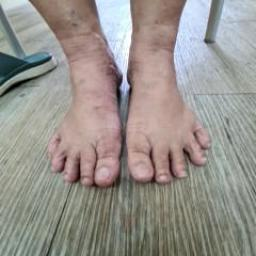Front View -Both Feet-: (28, 25, 224, 210)
